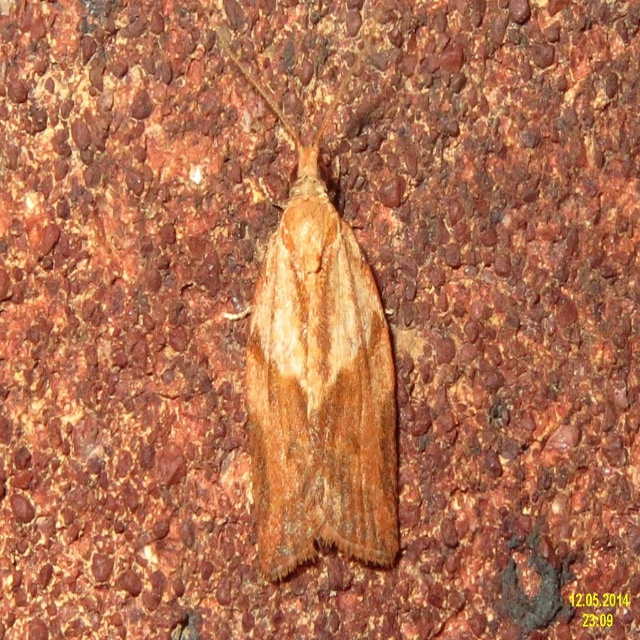Moths and butterflies: (198, 9, 403, 586)
